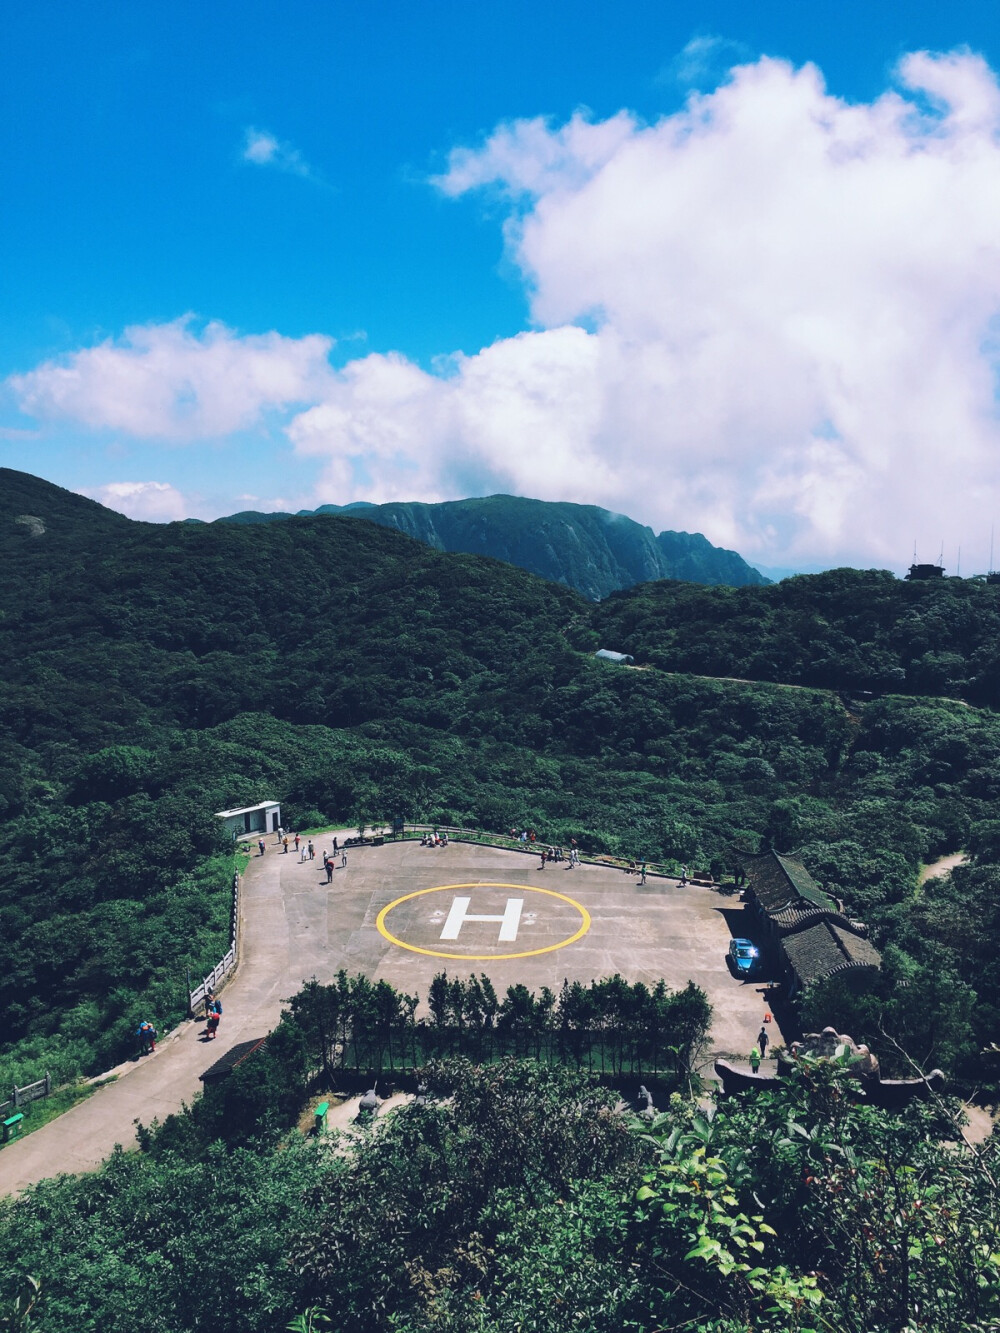Apron: (373, 880, 591, 963)
